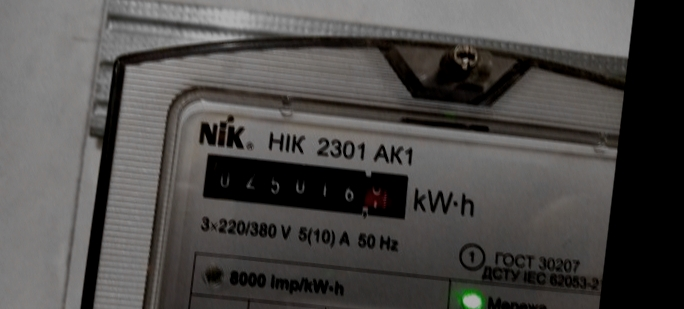0: (293, 170, 310, 194), (217, 165, 233, 189), (370, 174, 384, 195)
1: (318, 172, 332, 198), (370, 197, 379, 209)
2: (243, 165, 259, 190)
5: (268, 171, 281, 193)
6: (341, 178, 357, 204)
screen: (193, 141, 420, 227)
